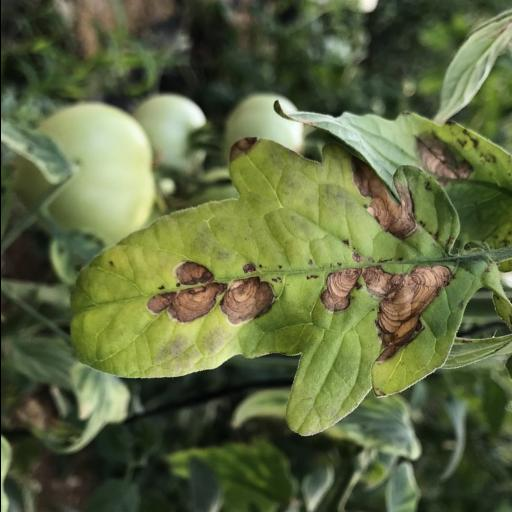Early Blight: (64, 138, 483, 438)
